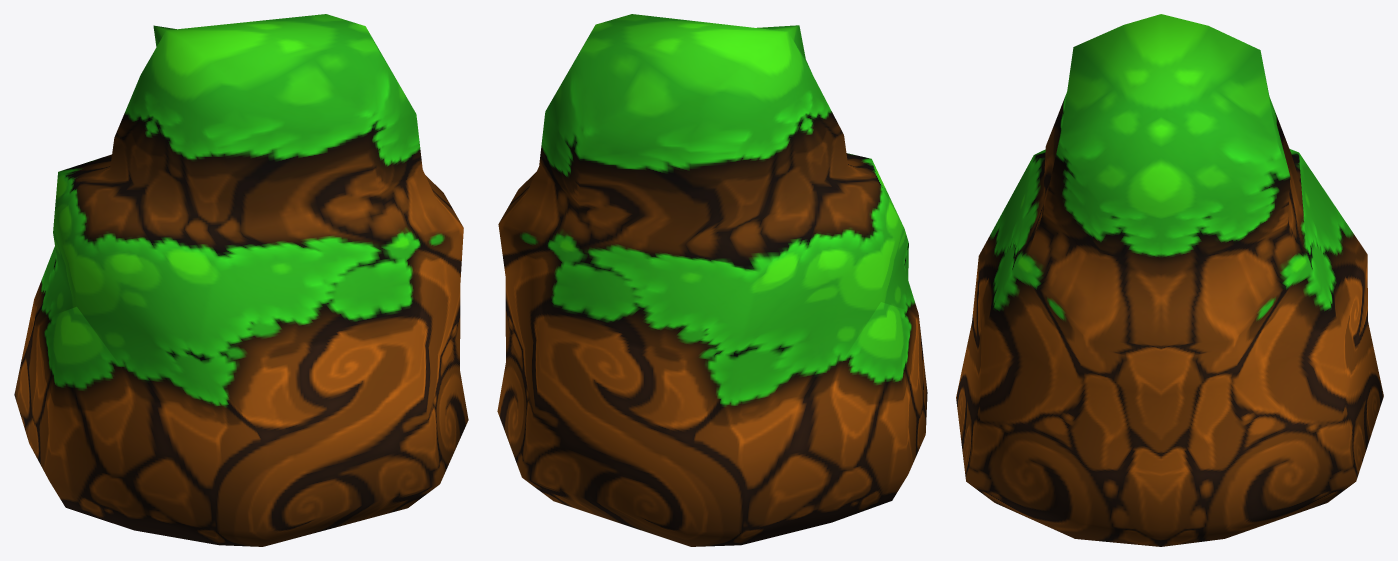
Rendered from Green_Rock_01.FBX.
The picture shows the model from 3 angles, left to right: view 1: azimuth 30°, elevation 25°; view 2: azimuth 150°, elevation 25°; view 3: azimuth 270°, elevation 25°; orthographic projection. The views are drawn at different scales.
Parts seen in each view (by area): view 1: Green_Rock_01; view 2: Green_Rock_01; view 3: Green_Rock_01.
Part boxes in pixels (x1,y1,x2,y2): Green_Rock_01: (14, 14, 468, 546); Green_Rock_01: (497, 14, 927, 546); Green_Rock_01: (956, 14, 1383, 546).
Size of the model in its own units: 280 by 297 by 272.
